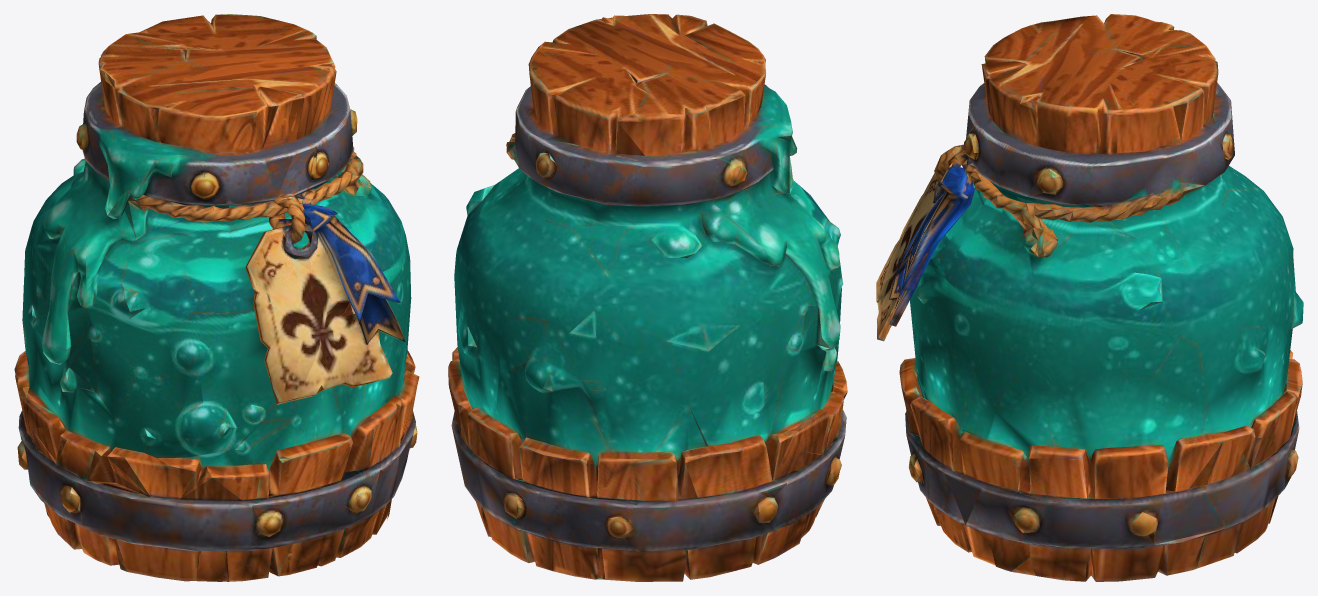
The model's file is jar-uncommon.glb.
The picture shows the model from 3 angles, left to right: view 1: azimuth 30°, elevation 25°; view 2: azimuth 150°, elevation 25°; view 3: azimuth 270°, elevation 25°; orthographic projection.
Bounding box in the file's own units: 1.67 × 2 × 1.72.
Materials: 1 (1 with a texture image).
